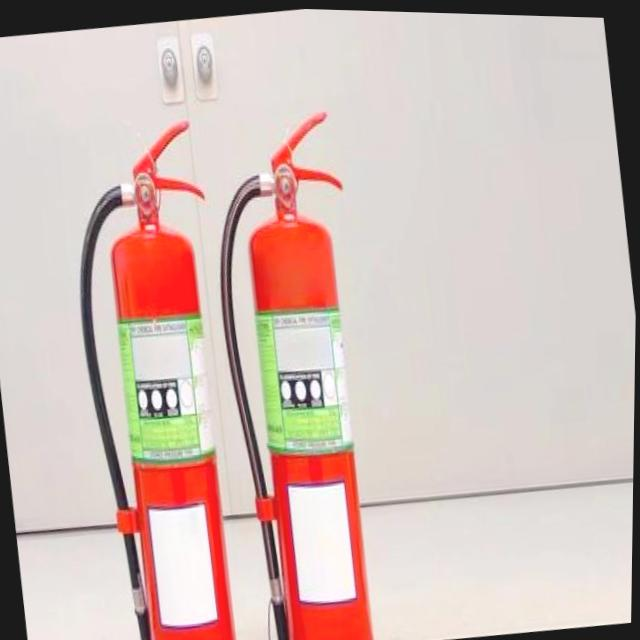FireExtinguisher: (50, 108, 265, 640), (191, 101, 401, 640)
